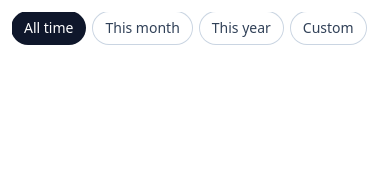
Scenario: FilterBar › shows date boxes only for a custom range
This screenshot has width=384, height=172.
Check: the field labelled "From" is not shown
Step 1. Click the button "Custom" → (328, 28), box [291,12,366,44]
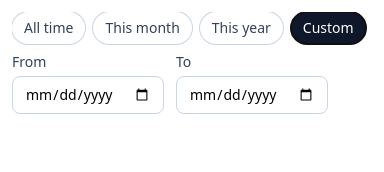
Check: the date field labelled "From" is shown, box [12,76,164,114]
Check: the date field labelled "To" is shown, box [176,76,328,114]
